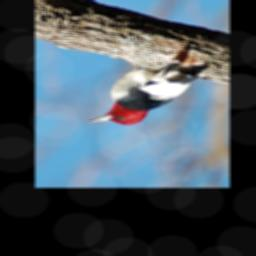Woodpecker: (84, 59, 201, 126)
